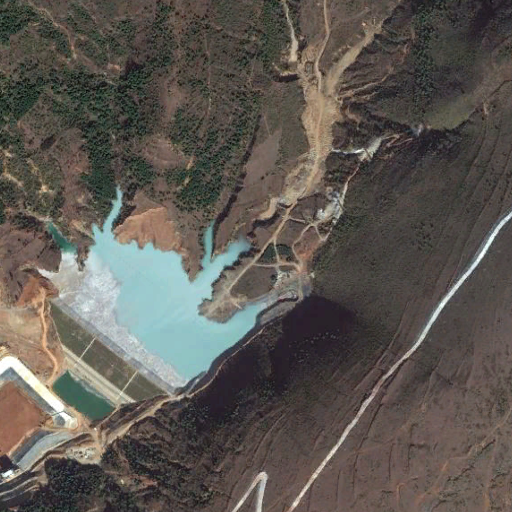tp: (42, 188, 293, 404)
